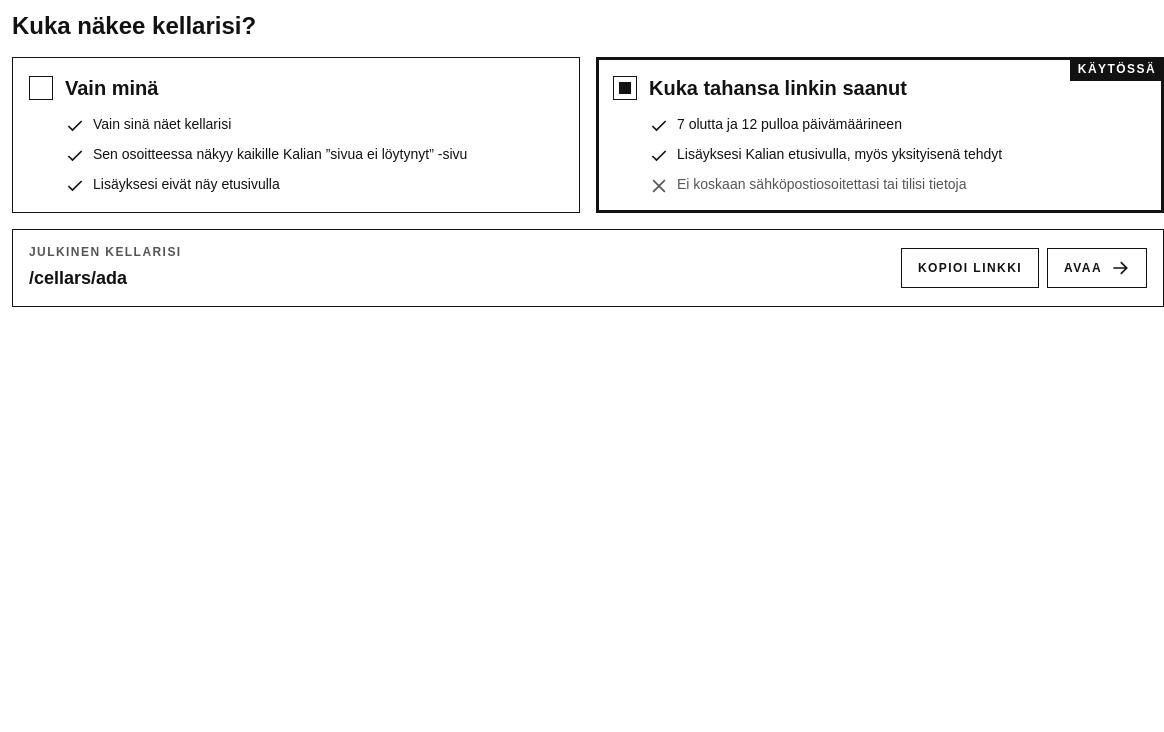
Test: VisibilityControl › copies the locale-less public address and says so in a toast
The width and height of the screenshot is (1164, 732).
Click the button "Kopioi linkki": (970, 268) [901,248,1039,288]
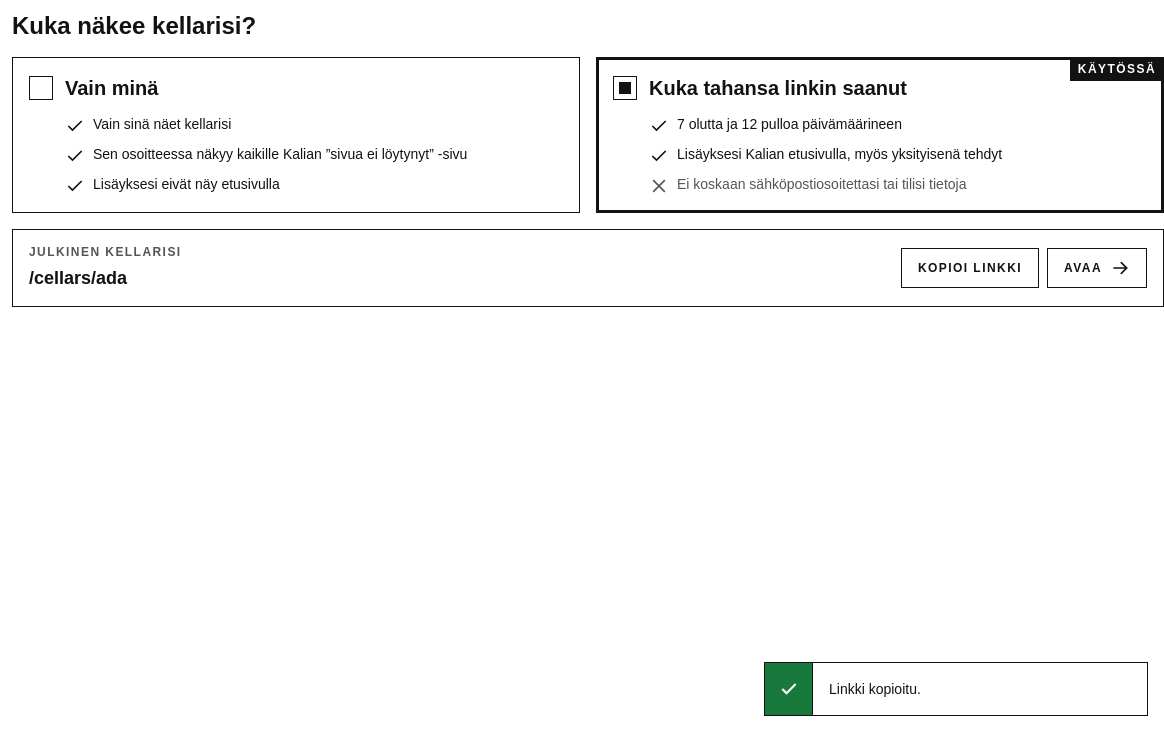
Now the text "Linkki kopioitu." is shown, box [829,681,921,697]
